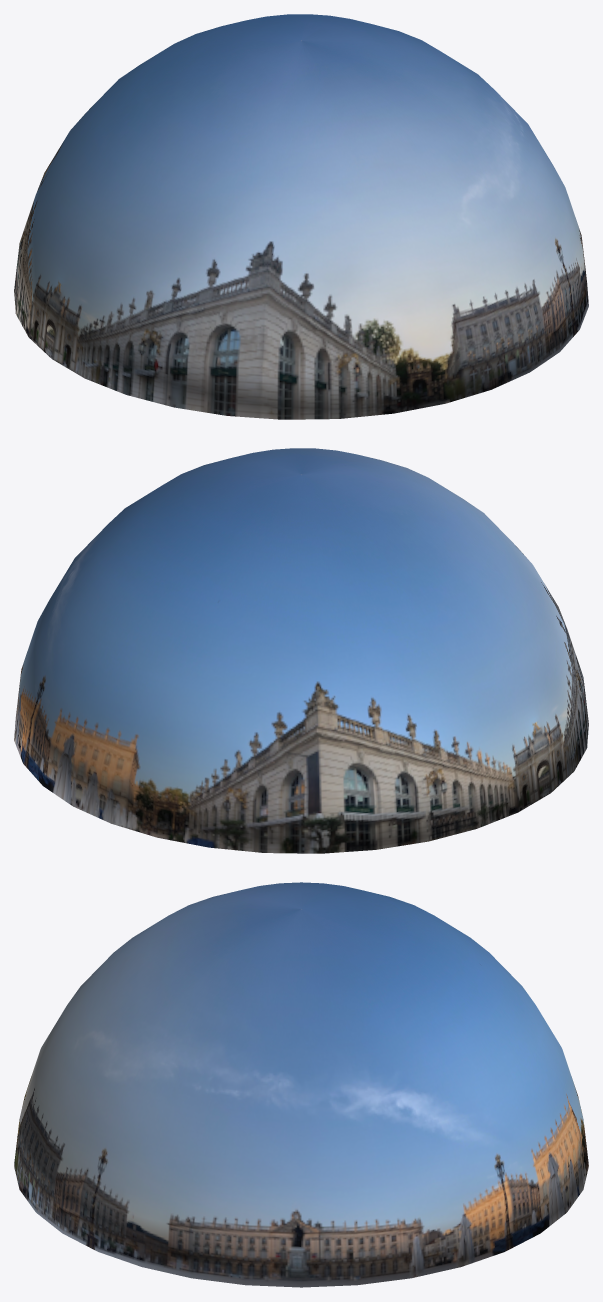
The model's file is decorEmi.obj.
3 renders of one model, top to bottom at view 1: azimuth 30°, elevation 25°; view 2: azimuth 150°, elevation 25°; view 3: azimuth 270°, elevation 25°, orthographic.
Visible parts, largest first — view 1: Sphere; view 2: Sphere; view 3: Sphere.
Part boxes in pixels (x1,y1,x2,y2): Sphere: (14,14,588,419); Sphere: (14,448,588,853); Sphere: (14,882,588,1287).
Size of the model in its own units: 39.06 by 19.26 by 39.06.
1 material, 1 textured.
